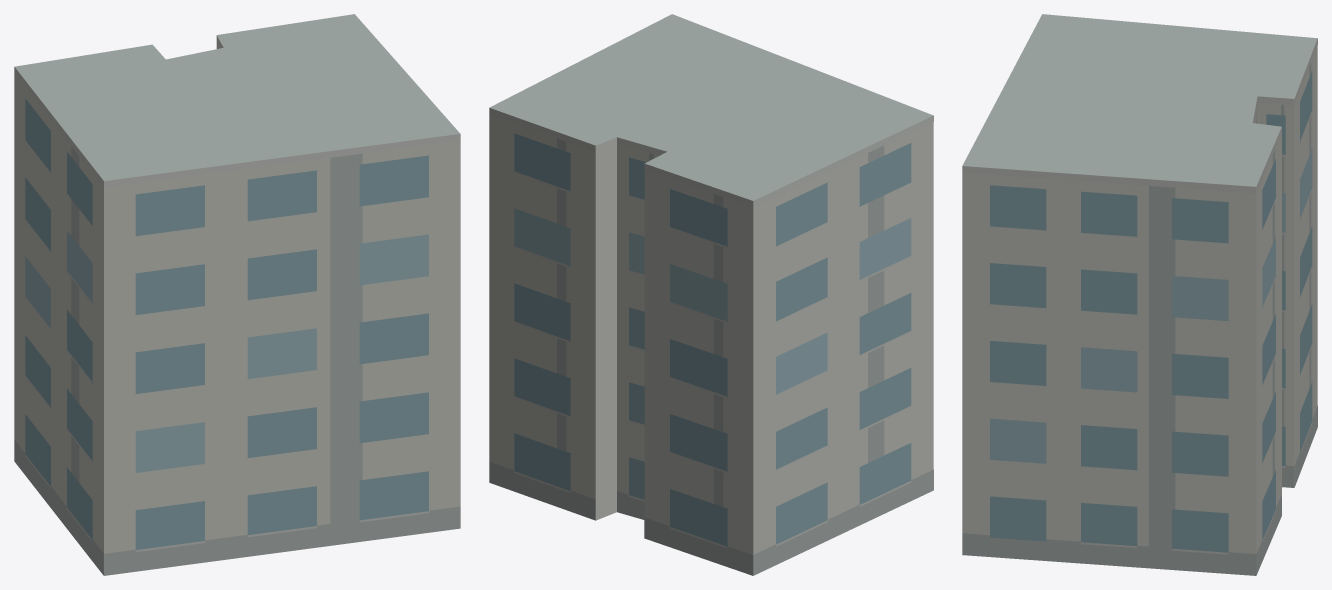
File: survey-upis-32890300.glb
3 renders of one model, left to right at view 1: azimuth 30°, elevation 25°; view 2: azimuth 150°, elevation 25°; view 3: azimuth 270°, elevation 25°, orthographic. The views are drawn at different scales.
Visible parts, largest first — view 1: survey-upis-32890300.tmp; view 2: survey-upis-32890300.tmp; view 3: survey-upis-32890300.tmp.
Part boxes in pixels (x1,y1,x2,y2): survey-upis-32890300.tmp: [14, 14, 460, 575]; survey-upis-32890300.tmp: [489, 14, 933, 575]; survey-upis-32890300.tmp: [962, 14, 1317, 575].
Size of the model in its own units: 13.63 by 14.3 by 11.85.
